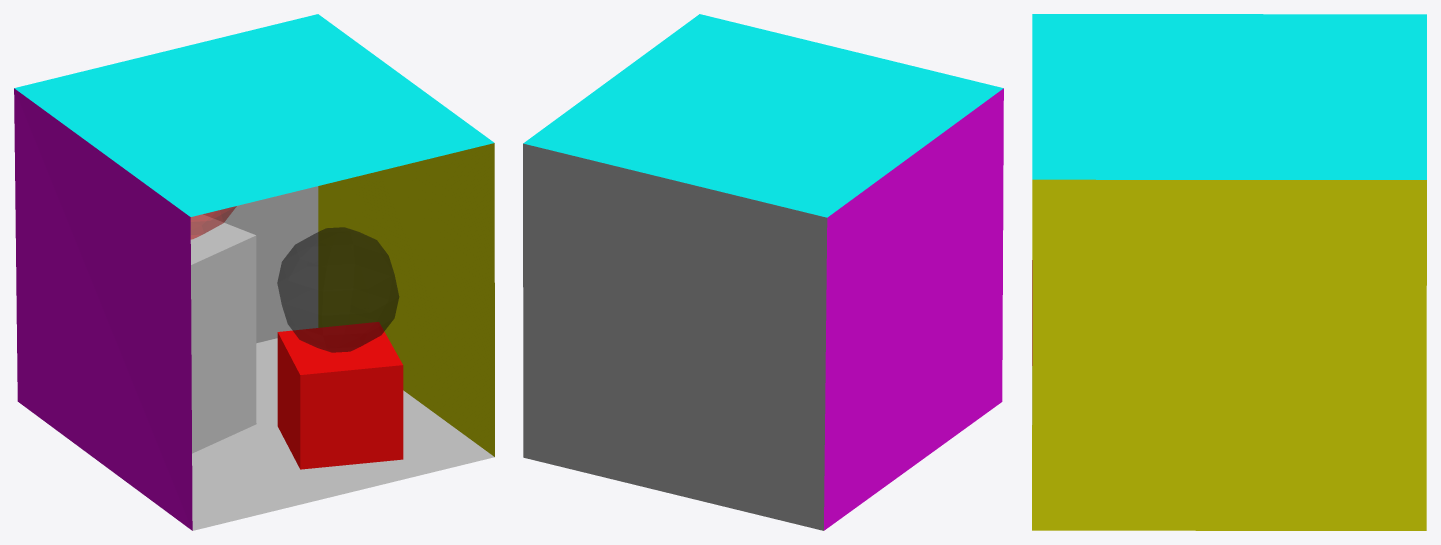
Rendered from textured-cornell-box.obj.
3 renders of one model, left to right at view 1: azimuth 30°, elevation 25°; view 2: azimuth 150°, elevation 25°; view 3: azimuth 270°, elevation 25°, orthographic. The views are drawn at different scales.
Visible parts, largest first — view 1: left_wall, ceiling, right_wall, floor, short_box, tall_box, sphere1, back_wall, sphere2; view 2: back_wall, left_wall, ceiling; view 3: right_wall, ceiling.
Part boxes in pixels (left/top/right/bottom): left_wall: left=14, top=88, right=192, bottom=530; ceiling: left=14, top=14, right=494, bottom=216; right_wall: left=318, top=143, right=494, bottom=456; floor: left=192, top=338, right=494, bottom=530; short_box: left=277, top=322, right=403, bottom=469; tall_box: left=190, top=214, right=256, bottom=453; sphere1: left=277, top=227, right=399, bottom=352; back_wall: left=203, top=186, right=318, bottom=343; sphere2: left=190, top=206, right=236, bottom=239; back_wall: left=523, top=143, right=827, bottom=530; left_wall: left=824, top=88, right=1003, bottom=530; ceiling: left=523, top=14, right=1003, bottom=217; right_wall: left=1032, top=179, right=1426, bottom=530; ceiling: left=1032, top=14, right=1426, bottom=179.
Bounding box in the file's own units: 5.56 × 5.49 × 5.6.
